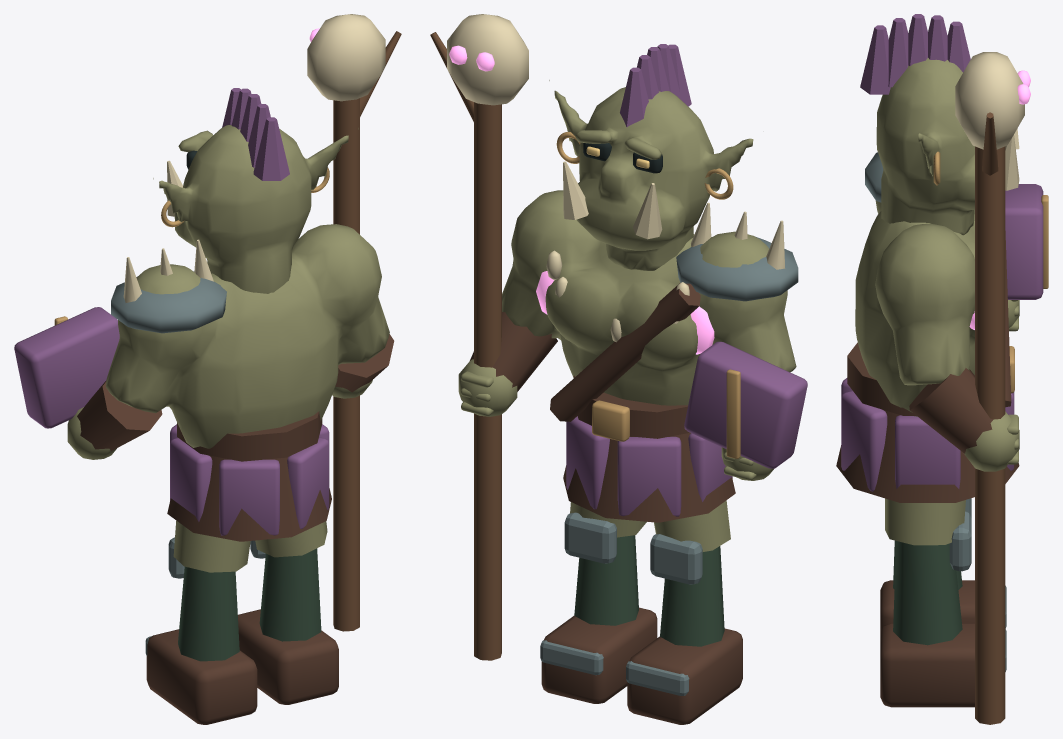
Rendered from host_16.glb.
3 views of the same model, side by side, from view 1: azimuth 30°, elevation 25°; view 2: azimuth 150°, elevation 25°; view 3: azimuth 270°, elevation 25° (orthographic). The views are drawn at different scales.
Visible parts, largest first — view 1: mesh_Skin.002, mesh_Cloth.015, mesh_Leather.002, mesh_Wood.015, mesh_Bone.015, mesh_Leather.015, mesh_Leather.001, mesh_Shadow.015, mesh_Shadow.001, mesh_Iron.002, mesh_Skin.015, mesh_Skin.001; view 2: mesh_Skin.002, mesh_Cloth.015, mesh_Leather.002, mesh_Wood.015, mesh_Bone.015, mesh_Leather.015, mesh_Leather.001, mesh_Shadow.015, mesh_Shadow.001, mesh_Iron.002, mesh_Iron.015, mesh_Iron.001 (+5 smaller); view 3: mesh_Skin.002, mesh_Cloth.015, mesh_Wood.015, mesh_Leather.002, mesh_Leather.001, mesh_Shadow.001, mesh_Bone.015, mesh_Skin.001, mesh_Leather.015, mesh_Iron.001, mesh_Copper.015, mesh_Iron.002 (+1 smaller).
Part boxes in pixels (<box>): mesh_Skin.002: <box>67,125,389,459</box>; mesh_Cloth.015: <box>14,88,329,535</box>; mesh_Leather.002: <box>77,334,394,541</box>; mesh_Wood.015: <box>333,31,401,631</box>; mesh_Bone.015: <box>123,14,385,302</box>; mesh_Leather.015: <box>146,629,257,724</box>; mesh_Leather.001: <box>238,609,338,704</box>; mesh_Shadow.015: <box>178,566,239,661</box>; mesh_Shadow.001: <box>259,548,321,641</box>; mesh_Iron.002: <box>111,271,226,333</box>; mesh_Skin.015: <box>173,520,250,572</box>; mesh_Skin.001: <box>255,521,327,557</box>; mesh_Skin.002: <box>458,80,796,480</box>; mesh_Cloth.015: <box>566,44,807,516</box>; mesh_Leather.002: <box>470,283,735,522</box>; mesh_Wood.015: <box>430,32,501,660</box>; mesh_Bone.015: <box>447,14,785,342</box>; mesh_Leather.015: <box>627,628,742,724</box>; mesh_Leather.001: <box>541,607,657,703</box>; mesh_Shadow.015: <box>660,546,724,646</box>; mesh_Shadow.001: <box>574,535,638,625</box>; mesh_Iron.002: <box>676,236,798,301</box>; mesh_Iron.015: <box>626,534,702,695</box>; mesh_Iron.001: <box>540,512,616,675</box>; mesh_Skin.002: <box>855,58,1019,471</box>; mesh_Cloth.015: <box>841,14,1043,491</box>; mesh_Wood.015: <box>975,112,1005,724</box>; mesh_Leather.002: <box>836,231,1019,502</box>; mesh_Leather.001: <box>880,623,974,707</box>; mesh_Shadow.001: <box>893,541,962,645</box>; mesh_Bone.015: <box>955,52,1024,190</box>; mesh_Skin.001: <box>885,498,965,545</box>; mesh_Leather.015: <box>880,580,974,632</box>; mesh_Iron.001: <box>949,511,1006,671</box>; mesh_Copper.015: <box>933,151,1048,393</box>; mesh_Iron.002: <box>865,152,883,202</box>.
Size of the model in its own units: 1.2 by 1.98 by 0.5561.
